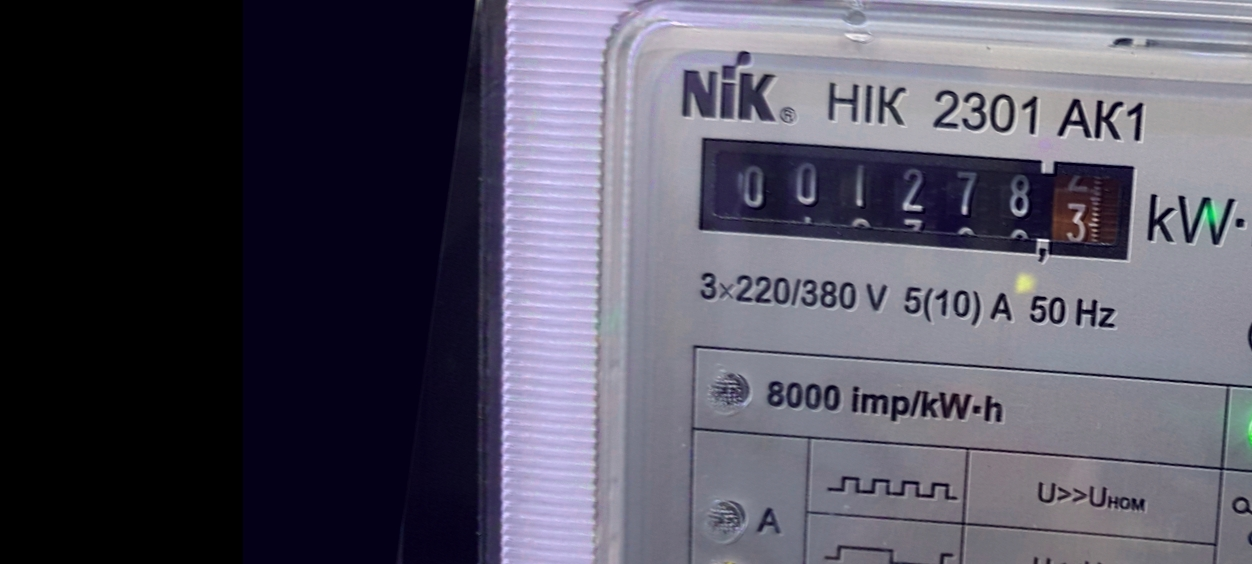0: (739, 161, 772, 212), (791, 159, 823, 209)
1: (849, 160, 874, 209)
2: (898, 166, 930, 216), (1066, 173, 1092, 195)
3: (1061, 200, 1093, 247)
7: (950, 169, 979, 218)
8: (1006, 173, 1036, 220)
screen: (675, 93, 1160, 305)
